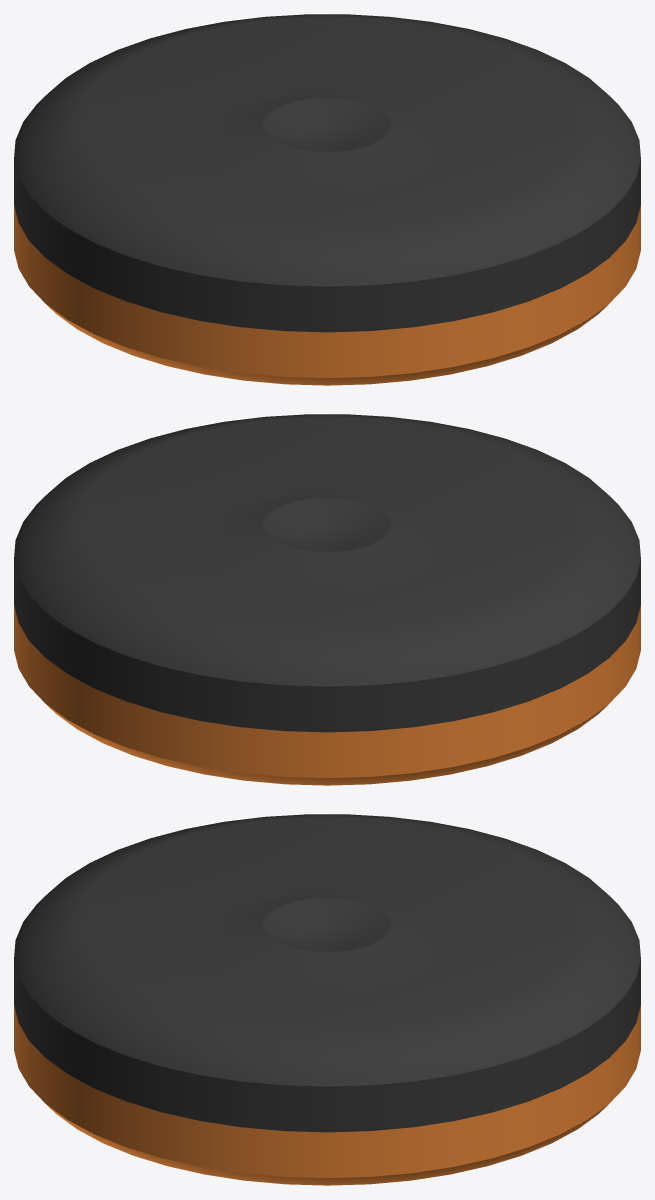
Rendered from ficha.FBX.
3 views of the same model, one above another, from view 1: azimuth 30°, elevation 25°; view 2: azimuth 150°, elevation 25°; view 3: azimuth 270°, elevation 25° (orthographic).
Visible parts, largest first — view 1: Cylinder002; view 2: Cylinder002; view 3: Cylinder002.
Boxes of the visible parts, x1=… form: Cylinder002: x1=14, y1=14, x2=640, y2=385; Cylinder002: x1=14, y1=414, x2=640, y2=785; Cylinder002: x1=14, y1=814, x2=640, y2=1185.
Bounding box in the file's own units: 2.37 × 0.6525 × 2.37.
